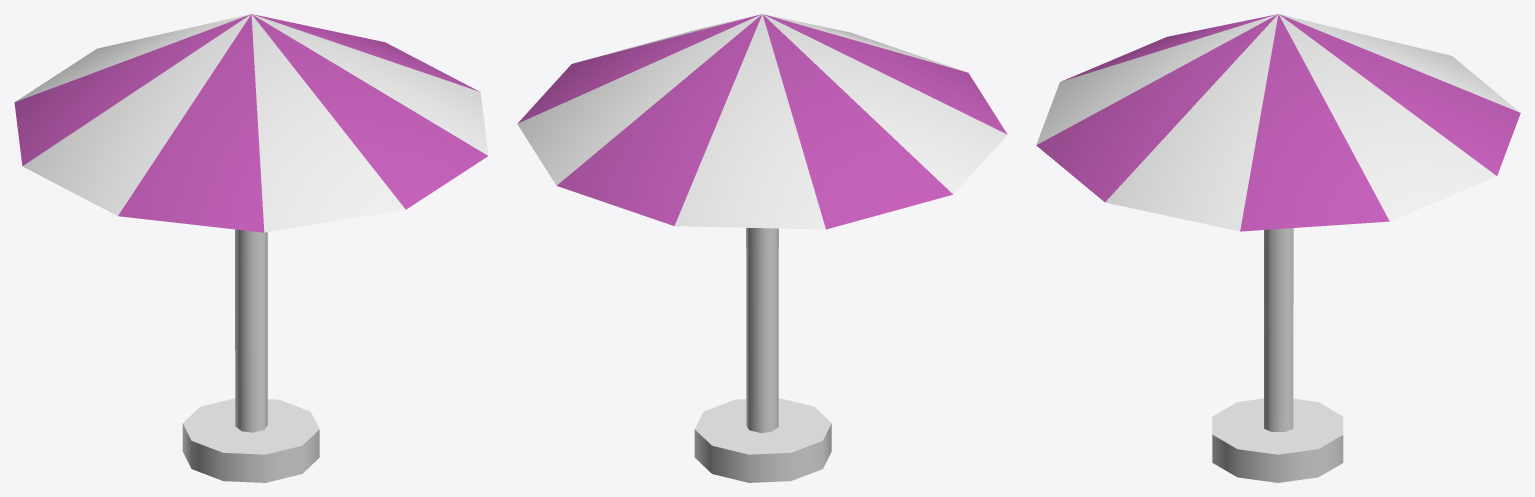
File: umbrella01_s01.FBX
3 renders of one model, left to right at view 1: azimuth 30°, elevation 25°; view 2: azimuth 150°, elevation 25°; view 3: azimuth 270°, elevation 25°, orthographic.
Parts seen in each view (by area): view 1: umbrella01_s01; view 2: umbrella01_s01; view 3: umbrella01_s01.
Part boxes in pixels (<box>): umbrella01_s01: <box>14,14,488,482</box>; umbrella01_s01: <box>517,14,1007,482</box>; umbrella01_s01: <box>1036,14,1520,482</box>.
Bounding box in the file's own units: 334 × 334 × 334.
1 material, 1 textured.
